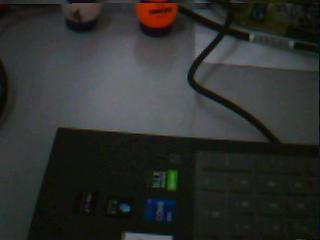oball: (136, 3, 177, 27)
